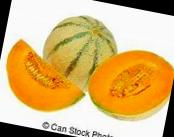Melon Ripe: (0, 35, 94, 119), (84, 40, 174, 126)
